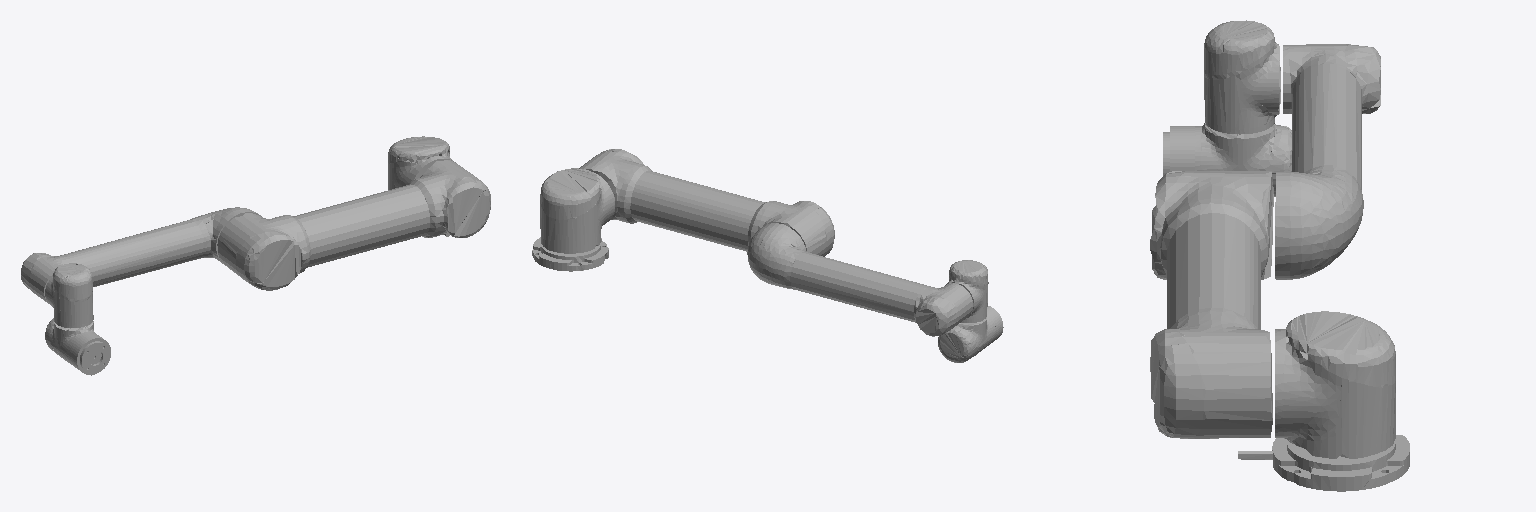
robot.urdf — sisbot:
<?xml version="1.0" ?>
<!-- =================================================================================== -->
<!-- |    This document was autogenerated by xacro from sisbot.xacro                   | -->
<!-- |    EDITING THIS FILE BY HAND IS NOT RECOMMENDED                                 | -->
<!-- =================================================================================== -->
<robot name="sisbot" xmlns:xacro="http://ros.org/wiki/xacro">
  <!--################################################
  ########              arm                    #######
  ####################################################-->

  <link name="base_link">
    <visual>
      <geometry>
        <mesh filename="../meshes/ur5/visual/base.obj"/>
      </geometry>
      <material name="LightGrey">
        <color rgba="0.7 0.7 0.7 1.0"/>
      </material>
    </visual> 
    <collision>
      <geometry>
        <mesh filename="../meshes/ur5/collision/base.stl"/>
      </geometry>
    </collision>
    <inertial>
      <mass value="0.0"/>
      <origin rpy="0 0 0" xyz="0.0 0.0 0.0"/>
      <inertia ixx="0.00443333156" ixy="0.0" ixz="0.0" iyy="0.00443333156" iyz="0.0" izz="0.0072"/>
    </inertial>
  </link>

  <joint name="shoulder_pan_joint" type="revolute">
    <parent link="base_link"/>
    <child link="shoulder_link"/>
    <origin rpy="0.0 0.0 3.14" xyz="0.0 0.0 0.089159"/>
    <axis xyz="0 0 1"/>
    <limit effort="300.0" lower="-3.14159265359" upper="3.14159265359" velocity="10"/>
    <dynamics damping="0.5" friction="0.0"/>
  </joint>
  <link name="shoulder_link">
    <visual>
      <geometry>
        <mesh filename="../meshes/ur5/visual/shoulder.obj"/>
      </geometry>
      <material name="LightGrey">
        <color rgba="0.7 0.7 0.7 1.0"/>
      </material>
    </visual>
    <collision>
      <geometry>
        <mesh filename="../meshes/ur5/collision/shoulder.stl"/>
      </geometry>
    </collision>
    <inertial>
      <mass value="3.7"/>
      <origin rpy="0 0 0" xyz="0.0 0.0 0.5"/>
      <inertia ixx="0.010267495893" ixy="0.0" ixz="0.0" iyy="0.010267495893" iyz="0.0" izz="0.00666"/>
    </inertial>
  </link>
  <joint name="shoulder_lift_joint" type="revolute">
    <parent link="shoulder_link"/>
    <child link="upper_arm_link"/>
    <origin rpy="0.0 1.6 0.0" xyz="0.0 0.13585 0.0"/>
    <axis xyz="0 1 0"/>
    <limit effort="300.0" lower="-3.14159265359" upper="3.14159265359" velocity="10"/>
    <dynamics damping="0.5" friction="0.0"/>
  </joint>
  <link name="upper_arm_link">
    <visual>
      <geometry>
        <mesh filename="../meshes/ur5/visual/upperarm.obj"/>
      </geometry>
      <material name="LightGrey">
        <color rgba="0.7 0.7 0.7 1.0"/>
      </material>
    </visual>
    <collision>
      <geometry>
        <mesh filename="../meshes/ur5/collision/upperarm.stl"/>
      </geometry>
    </collision>
    <inertial>
      <mass value="8.393"/>
      <origin rpy="0 0 0" xyz="0.0 0.0 0.28"/>
      <inertia ixx="0.22689067591" ixy="0.0" ixz="0.0" iyy="0.22689067591" iyz="0.0" izz="0.0151074"/>
    </inertial>
  </link>
  <joint name="elbow_joint" type="revolute">
    <parent link="upper_arm_link"/>
    <child link="forearm_link"/>
    <origin rpy="0.0 0.0 0.0" xyz="0.0 -0.1197 0.425"/>
    <axis xyz="0 1 0"/>
    <limit effort="300.0" lower="-3.14159265359" upper="3.14159265359" velocity="10"/>
    <dynamics damping="0.5" friction="0.0"/>
  </joint>
  <link name="forearm_link">
    <visual>
      <geometry>
        <mesh filename="../meshes/ur5/visual/forearm.obj"/>
      </geometry>
      <material name="LightGrey">
        <color rgba="0.7 0.7 0.7 1.0"/>
      </material>
    </visual>
    <collision>
      <geometry>
        <mesh filename="../meshes/ur5/collision/forearm.stl"/>
      </geometry>
    </collision>
    <inertial>
      <mass value="2.275"/>
      <origin rpy="0 0 0" xyz="0.0 0.0 0.25"/>
      <inertia ixx="0.049443313556" ixy="0.0" ixz="0.0" iyy="0.049443313556" iyz="0.0" izz="0.004095"/>
    </inertial>
  </link>
  <joint name="wrist_1_joint" type="revolute">
    <parent link="forearm_link"/>
    <child link="wrist_1_link"/>
    <origin rpy="0.0 1.57079632679 0.0" xyz="0.0 0.0 0.39225"/>
    <axis xyz="0 1 0"/>
    <limit effort="300.0" lower="-3.14159265359" upper="3.14159265359" velocity="10"/>
    <dynamics damping="0.5" friction="0.0"/>
  </joint>
  <link name="wrist_1_link">
    <visual>

      <geometry>
        <mesh filename="../meshes/ur5/visual/wrist1.obj"/>
      </geometry>
      <material name="LightGrey">
        <color rgba="0.7 0.7 0.7 1.0"/>
      </material>
    </visual>
    <collision>
      <geometry>
        <mesh filename="../meshes/ur5/collision/wrist1.stl"/>
      </geometry>
    </collision>
    <inertial>
      <mass value="1.219"/>
      <origin rpy="0 0 0" xyz="0.0 0.0 0.0"/>
      <inertia ixx="0.111172755531" ixy="0.0" ixz="0.0" iyy="0.111172755531" iyz="0.0" izz="0.21942"/>
    </inertial>
  </link>
  <joint name="wrist_2_joint" type="revolute">
    <parent link="wrist_1_link"/>
    <child link="wrist_2_link"/>
    <origin rpy="0.0 0.0 0.0" xyz="0.0 0.093 0.0"/>
    <axis xyz="0 0 1"/>
    <limit effort="300.0" lower="-3.14159265359" upper="3.14159265359" velocity="10"/>
    <dynamics damping="0.5" friction="0.0"/>
  </joint>
  <link name="wrist_2_link">
    <visual>
      <geometry>
        <mesh filename="../meshes/ur5/visual/wrist2.obj"/>
      </geometry>
      <material name="LightGrey">
        <color rgba="0.7 0.7 0.7 1.0"/>
      </material>
    </visual>
    <collision>
      <geometry>
        <mesh filename="../meshes/ur5/collision/wrist2.stl"/>
      </geometry>
    </collision>
    <inertial>
      <mass value="1.219"/>
      <origin rpy="0 0 0" xyz="0.0 0.0 0.0"/>
      <inertia ixx="0.111172755531" ixy="0.0" ixz="0.0" iyy="0.111172755531" iyz="0.0" izz="0.21942"/>
    </inertial>
  </link>
  <joint name="wrist_3_joint" type="revolute">
    <parent link="wrist_2_link"/>
    <child link="wrist_3_link"/>
    <origin rpy="0.0 0.0 0.0" xyz="0.0 0.0 0.09465"/>
    <axis xyz="0 1 0"/>
    <limit effort="300.0" lower="-3.14159265359" upper="3.14159265359" velocity="10"/>
    <dynamics damping="0.5" friction="0.0"/>
  </joint>
  <link name="wrist_3_link">
    <visual>
      <geometry>
        <mesh filename="../meshes/ur5/visual/wrist3.obj"/>
      </geometry>
      <material name="LightGrey">
        <color rgba="0.7 0.7 0.7 1.0"/>
      </material>
    </visual>
    <collision>
      <geometry>
        <mesh filename="../meshes/ur5/collision/wrist3.stl"/>
      </geometry>
    </collision>
    <inertial>
      <mass value="0.1879"/>
      <origin rpy="0 0 0" xyz="0.0 0.0 0.0"/>
      <inertia ixx="0.0171364731454" ixy="0.0" ixz="0.0" iyy="0.0171364731454" iyz="0.0" izz="0.033822"/>
    </inertial>
  </link>
  <joint name="ee_fixed_joint" type="fixed">
    <parent link="wrist_3_link"/>
    <child link="ee_link"/>
    <origin rpy="0.0 0.0 1.57079632679" xyz="0.0 0.0823 0.0"/>
  </joint>
  <link name="ee_link">
    <collision>
      <geometry>
        <box size="0.01 0.01 0.01"/>
      </geometry>
      <origin rpy="0 0 0" xyz="-0.01 0 0"/>
    </collision>
    <inertial>
      <mass value="1"/>
      <origin rpy="0 0 0" xyz="0.0 0.0 0.0"/>
      <inertia ixx="1" ixy="0.0" ixz="0.0" iyy="1" iyz="0.0" izz="1"/>
    </inertial>
  </link>
  <!-- <joint name='left_gripper_motor' type='prismatic'>
    <parent link="wrist_3_link"/>
    <child link="left_gripper"/>
    <origin rpy="-1.57 0.0 0.0" xyz="-0.05 0.1 0.005"/>
    <axis xyz="1 0 0"/>
    <limit effort="10.0" lower="-0.00" upper="0.04" velocity="100"/>
    <dynamics damping="0.0" friction="0.0"/>
  </joint>
<link name="left_gripper">
    <contact>
      <lateral_friction value="1.0"/>
      <inertia_scaling value="3.0"/>
    </contact>
    <inertial>
      <origin rpy="0 0 0" xyz="0 0 0.05"/>
       <mass value=".2"/>
       <inertia ixx="0.1" ixy="0" ixz="0" iyy="0.1" iyz="0" izz="0.1"/>
    </inertial>
    <visual>
      <origin rpy="0 0 4.71239" xyz="0 0 0"/>
      <geometry>
        <mesh filename="../meshes/ur5/visual/l_gripper_tip_scaled.stl" scale="1 1 1"/>
      </geometry>
    </visual>
    <collision>
      <origin rpy="0 0 0" xyz="0 0 0.042"/>
      <geometry>
    <box size="0.02 0.02 0.15"/>
      </geometry>
    </collision>
  </link>
    <joint name='right_gripper_motor' type='prismatic'>
    <parent link="wrist_3_link"/>
    <child link="right_gripper"/>
    <origin rpy="-1.57 0.0 0.0" xyz="0.05 0.1 -0.005"/>
    <axis xyz="1 0 0"/>
    <limit effort="10.0" lower="-0.04" upper="0.0" velocity="100"/>
    <dynamics damping="0.0" friction="0.0"/>
  </joint>
  <link name="right_gripper">
    <contact>
      <lateral_friction value="1.0"/>
      <inertia_scaling value="3.0"/>
    </contact>
    <inertial>
      <origin rpy="0 0 0" xyz="0 0 0.05"/>
       <mass value=".2"/>
       <inertia ixx="0.1" ixy="0" ixz="0" iyy="0.1" iyz="0" izz="0.1"/>
    </inertial>
    <visual>
      <origin rpy="0 0 1.5708" xyz="0 0 0"/>
      <geometry>
        <mesh filename="../meshes/ur5/visual/l_gripper_tip_scaled.stl" scale="1 1 1"/>
      </geometry>
    </visual>
    <collision>
      <origin rpy="0 0 0" xyz="0 0 0.042"/>
      <geometry>
    <box size="0.02 0.02 0.15"/>
      </geometry>
    </collision>
  </link> -->



<!--     <joint name='back_gripper' type='prismatic'>
    <parent link="wrist_3_link"/>
    <child link="back_support_gripper"/>
    <origin rpy="-1.57 1.57 0.0" xyz="0.0 0.06 -0.06"/>
    <axis xyz="1 0 0"/>
    <limit effort="20.0" lower="0.0" upper="0.0" velocity="1000"/>
    <dynamics damping="0.0" friction="0.0"/>
  </joint>
  <link name="back_support_gripper">
    <contact>
      <lateral_friction value="100.0"/>
      <inertia_scaling value="3.0"/>
    </contact>
    <inertial>
      <origin rpy="0 0 0" xyz="0 0 0.05"/>
       <mass value=".2"/>
       <inertia ixx="0.1" ixy="0" ixz="0" iyy="0.1" iyz="0" izz="0.1"/>
    </inertial>
    <visual>
      <origin rpy="0 0 1.5708" xyz="0 0 0"/>
      <geometry>
        <mesh filename="../meshes/ur5/visual/l_gripper_tip_scaled.stl" scale="1 1 1"/>
      </geometry>
    </visual>
    <collision>
      <origin rpy="0 0 0" xyz="0 0 0.042"/>
      <geometry>
    <box size="0.02 0.02 0.15"/>
      </geometry>
    </collision>
  </link>
 -->

  <!--################################################
  ########              gripper                  #####
  ####################################################-->
<!--
  <link name="robotiq_85_adapter_link">
    <visual>
      <geometry>
        <mesh filename="../meshes/robotiq_c2/visual/robotiq_85_gripper_adapter_plate.obj"/>
      </geometry>
      <origin rpy="1.5707 0 1.5707" xyz="0 0 0"/>
    </visual>
    <collision>
      <geometry>
        <mesh filename="../meshes/robotiq_c2/collision/robotiq_85_gripper_adapter_plate.stl"/>
      </geometry>
      <origin rpy="0 0 1.5707" xyz="0 0 0"/>
    </collision>
  </link>
  <joint name="robotiq_85_base_joint" type="fixed">
    <parent link="robotiq_85_adapter_link"/>
    <child link="robotiq_85_base_link"/>
    <axis xyz="1 0 0"/>
    <origin rpy="0 0 0" xyz=".0085 0 -.0041"/>
  </joint>
  <link name="robotiq_85_base_link">
    <visual>
      <geometry>
        <mesh filename="../meshes/robotiq_c2/visual/robotiq_85_gripper_base.obj"/>
      </geometry>
      <origin rpy="6.1415 0 1.5707" xyz="0 0 0"/>
    </visual>
    <collision>
      <geometry>
        <mesh filename="../meshes/robotiq_c2/collision/robotiq_85_gripper_base.stl"/>
      </geometry>
      <origin rpy="1.5707 0 1.5707" xyz="0 0 0"/>
    </collision>
  </link>
  <joint name="robotiq_85_left_knuckle_joint" type="revolute">
    <parent link="robotiq_85_base_link"/>
    <child link="robotiq_85_left_knuckle_link"/>
    <axis xyz="1 0 0"/>
    <origin rpy="-1.5707 1.5707 0" xyz="0.04191 0.0306 0"/>
    <limit effort="1000" lower="0" upper="0.343" velocity="2.0"/> 
  </joint>
  <joint name="robotiq_85_right_knuckle_joint" type="revolute">
    <parent link="robotiq_85_base_link"/>
    <child link="robotiq_85_right_knuckle_link"/>
    <axis xyz="1 0 0"/>
    <origin rpy="1.5707 -1.5707 0" xyz=".04191 -.0306 0"/>
    <limit effort="1000" lower="0" upper="1.5707" velocity="2.0"/>
    <mimic joint="robotiq_85_left_knuckle_joint" multiplier="1"/>
  </joint>
  <link name="robotiq_85_left_knuckle_link">
    <visual>
      <geometry>
        <mesh filename="../meshes/robotiq_c2/visual/robotiq_85_gripper_joint_0_L.obj"/>
      </geometry>
      <origin rpy="6.14159 -1.5707 0" xyz="0 .04191 -.0306"/>
    </visual>
    <collision>
      <geometry>
        <mesh filename="../meshes/robotiq_c2/collision/robotiq_85_gripper_joint_0_L.stl"/>
      </geometry>
      <origin rpy="1.5707 -1.5707 0" xyz="0 .04191 -.0306"/>
    </collision>
  </link>
  <link name="robotiq_85_right_knuckle_link">
    <visual>
      <geometry>
        <mesh filename="../meshes/robotiq_c2/visual/robotiq_85_gripper_joint_0_R.obj"/>
      </geometry>
      <origin rpy="6.14159 1.5707 0" xyz="0 .04191 -.0306"/>
    </visual>
    <collision>
      <geometry>
        <mesh filename="../meshes/robotiq_c2/collision/robotiq_85_gripper_joint_0_R.stl"/>
      </geometry>
      <origin rpy="1.5707 1.5707 0" xyz="0 .04191 -.0306"/>
    </collision>
  </link>
  <joint name="robotiq_85_left_finger_joint" type="fixed">
    <parent link="robotiq_85_left_knuckle_link"/>
    <child link="robotiq_85_left_finger_link"/>
    <axis xyz="1 0 0"/>
    <origin rpy="6.1415 0 0" xyz="0 .00508 .03134"/>
    <limit effort="1000" lower="0" upper="1.5707" velocity="2.0"/>
  </joint>
  <joint name="robotiq_85_right_finger_joint" type="fixed">
    <parent link="robotiq_85_right_knuckle_link"/>
    <child link="robotiq_85_right_finger_link"/>
    <axis xyz="1 0 0"/>
    <origin rpy="6.1415 0 0" xyz="0 .00508 .03134"/>
    <limit effort="1000" lower="0" upper="1.5707" velocity="2.0"/>
  </joint>
  <link name="robotiq_85_left_finger_link">
    <visual>
      <geometry>
        <mesh filename="../meshes/robotiq_c2/visual/robotiq_85_gripper_joint_1_L.obj"/>
      </geometry>
      <origin rpy="0 1.5707 0" xyz="0 -.03683 .06194"/>
    </visual>
    <collision>
      <geometry>
        <mesh filename="../meshes/robotiq_c2/collision/robotiq_85_gripper_joint_1_L.stl"/>
      </geometry>
      <origin rpy="-1.5707 1.5707 0" xyz="0 -.03683 .06194"/>
    </collision>
  </link>
  <link name="robotiq_85_right_finger_link">
    <visual>
      <geometry>
        <mesh filename="../meshes/robotiq_c2/visual/robotiq_85_gripper_joint_1_R.obj"/>
      </geometry>
      <origin rpy="0 -1.5707 0" xyz="0 -.03683 .06194"/>
    </visual>
    <collision>
      <geometry>
        <mesh filename="../meshes/robotiq_c2/collision/robotiq_85_gripper_joint_1_R.stl"/>
      </geometry>
      <origin rpy="-1.5707 -1.5707 0" xyz="0 -.03683 .06194"/>
    </collision>
  </link>
  <joint name="robotiq_85_left_inner_knuckle_joint" type="revolute">
    <parent link="robotiq_85_base_link"/>
    <child link="robotiq_85_left_inner_knuckle_link"/>
    <axis xyz="1 0 0"/>
    <origin rpy="1.5707 1.5707 0" xyz=".04843 .0127 0"/>
    <limit effort="1000" lower="0" upper="1.5707" velocity="2.0"/>
    <mimic joint="robotiq_85_left_knuckle_joint" offset="0"/>
  </joint>
  <joint name="robotiq_85_right_inner_knuckle_joint" type="revolute">
    <parent link="robotiq_85_base_link"/>
    <child link="robotiq_85_right_inner_knuckle_link"/>
    <axis xyz="1 0 0"/>
    <origin rpy="-1.5707 -1.5707 0" xyz=".04843 -.0127 0"/>
    <limit effort="1000" lower="0" upper="1.5707" velocity="2.0"/>
    <mimic joint="robotiq_85_left_knuckle_joint" offset="0"/>
  </joint>
  <link name="robotiq_85_left_inner_knuckle_link">
    <visual>
      <geometry>
        <mesh filename="../meshes/robotiq_c2/visual/robotiq_85_gripper_joint_2_L.obj"/>
      </geometry>
      <origin rpy="0 1.5707 0" xyz="0 -.04843 .0127"/>
    </visual>
    <collision>
      <geometry>
        <mesh filename="../meshes/robotiq_c2/collision/robotiq_85_gripper_joint_2_L.stl"/>
      </geometry>
      <origin rpy="-1.5707 1.5707 0" xyz="0 -.04843 .0127"/>
    </collision>
  </link>
  <link name="robotiq_85_right_inner_knuckle_link">
    <visual>
      <geometry>
        <mesh filename="../meshes/robotiq_c2/visual/robotiq_85_gripper_joint_2_R.obj"/>
      </geometry>
      <origin rpy="0 -1.5707 0" xyz="0 -.04843 .0127"/>
    </visual>
    <collision>
      <geometry>
        <mesh filename="../meshes/robotiq_c2/collision/robotiq_85_gripper_joint_2_R.stl"/>
      </geometry>
      <origin rpy="-1.5707 -1.5707 0" xyz="0 -.04843 .0127"/>
    </collision>
  </link>
  <joint name="robotiq_85_left_finger_tip_joint" type="revolute">
    <parent link="robotiq_85_left_inner_knuckle_link"/>
    <child link="robotiq_85_left_finger_tip_link"/>
    <axis xyz="1 0 0"/>
    <origin rpy="0 0 0" xyz="0 .04196 -.0388"/>
    <limit effort="1000" lower="0" upper="1.5707" velocity="2.0"/>
    <mimic joint="robotiq_85_left_knuckle_joint" multiplier="-1"/>
  </joint>
  <joint name="robotiq_85_right_finger_tip_joint" type="revolute">
    <parent link="robotiq_85_right_inner_knuckle_link"/>
    <child link="robotiq_85_right_finger_tip_link"/>
    <axis xyz="1 0 0"/>
    <origin rpy="0 0 0" xyz="0 .04196 -.0388"/>
    <limit effort="1000" lower="0" upper="1.5707" velocity="2.0"/>
    <mimic joint="robotiq_85_left_knuckle_joint" multiplier="-1"/>
  </joint>
  <link name="robotiq_85_left_finger_tip_link">
    <visual>
      <geometry>
        <mesh filename="../meshes/robotiq_c2/visual/robotiq_85_gripper_joint_3_L.obj"/>
      </geometry>
      <origin rpy="0 1.5707 0" xyz="0 -.090381 .051505"/>
    </visual>
    <collision>
      <geometry>
        <mesh filename="../meshes/robotiq_c2/collision/robotiq_85_gripper_joint_3_L.stl"/>
      </geometry>
      <origin rpy="-1.5707 1.5707 0" xyz="0 -.090381 .051505"/>
    </collision>
  </link>
  <link name="robotiq_85_right_finger_tip_link">
    <visual>
      <geometry>
        <mesh filename="../meshes/robotiq_c2/visual/robotiq_85_gripper_joint_3_R.obj"/>
      </geometry>
      <origin rpy="0 -1.5707 0" xyz="0 -.090381 .051505"/>
    </visual>
    <collision>
      <geometry>
        <mesh filename="../meshes/robotiq_c2/collision/robotiq_85_gripper_joint_3_R.stl"/>
      </geometry>
      <origin rpy="-1.5707 -1.5707 0" xyz="0 -.090381 .051505"/>
    </collision>
  </link> -->

  <!--################################################
  ########          connect model                #####
  ####################################################-->

  <!-- connect arm to world -->
  <link name="world"/>
  <joint name="world_joint" type="fixed">
    <parent link="world"/>
    <child link="base_link"/>
    <origin rpy="0.0 0.0 0" xyz="0.0 0.0 0.1"/>
  </joint>
  <!-- connect gripper to arm -->
 <!--  <joint name="arm_gripper_joint" type="fixed">
    <parent link="wrist_3_link"/>
    <child link="robotiq_85_adapter_link"/>
    <origin rpy="0.0 0.0 1.5708" xyz="0.0 0.089 0.0"/>
  </joint> -->

</robot>

--- Facts derived from the render (not from the file) ---
Views: 3 orthographic renders of the robot side by side, from view 1: azimuth 30°, elevation 25°; view 2: azimuth 150°, elevation 25°; view 3: azimuth 270°, elevation 25°.
Model sisbot with 9 links and 8 joints (6 revolute, 2 fixed), rooted at world, posed every joint at zero.
Links seen in each view (by area): view 1: upper_arm_link, forearm_link, wrist_1_link, shoulder_link, wrist_3_link, wrist_2_link; view 2: upper_arm_link, forearm_link, shoulder_link, wrist_2_link, wrist_1_link, base_link; view 3: upper_arm_link, forearm_link, shoulder_link, wrist_1_link, base_link, wrist_2_link, wrist_3_link.
Boxes of the visible links, box(x1,y1,x2,y2) form: upper_arm_link: box(217, 160, 490, 290); forearm_link: box(21, 207, 261, 303); wrist_1_link: box(45, 263, 93, 327); shoulder_link: box(388, 136, 455, 189); wrist_3_link: box(70, 333, 110, 375); wrist_2_link: box(45, 318, 95, 364); upper_arm_link: box(580, 149, 834, 256); forearm_link: box(747, 223, 972, 336); shoulder_link: box(540, 168, 614, 253); wrist_2_link: box(938, 314, 995, 362); wrist_1_link: box(945, 260, 988, 322); base_link: box(532, 237, 608, 271); upper_arm_link: box(1150, 171, 1273, 438); forearm_link: box(1275, 44, 1380, 279); shoulder_link: box(1275, 311, 1395, 458); wrist_1_link: box(1204, 20, 1280, 134); base_link: box(1238, 435, 1409, 491); wrist_2_link: box(1195, 123, 1291, 196); wrist_3_link: box(1163, 126, 1194, 175).
Size in the robot's own frame: 0.9294 by 0.2772 by 0.2297 metres.
7 mesh visuals loaded from 7 distinct referenced files (7 OBJ).